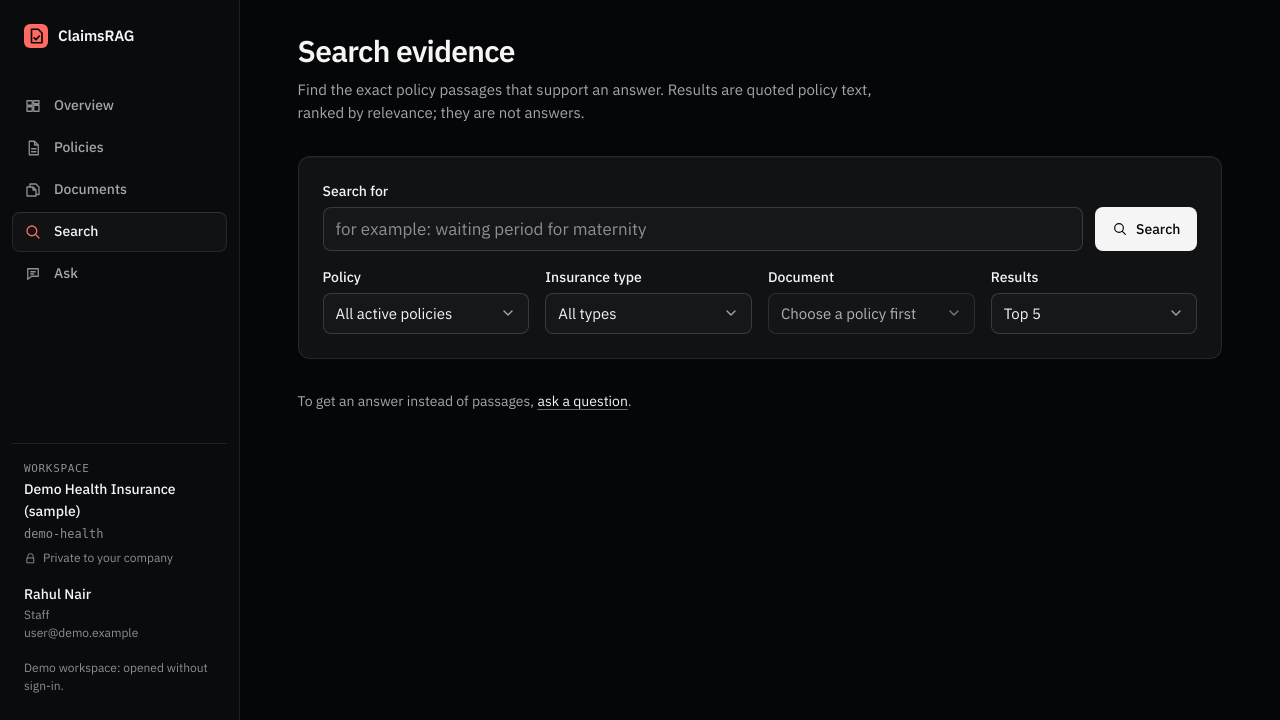
it: evidence search › lists retrieved passages with their provenance, labelled as passages rather than answers
The width and height of the screenshot is (1280, 720).
Type "maternity waiting period" into the search field labelled "Search for". click: (703, 229)
box: [323, 207, 1083, 251]
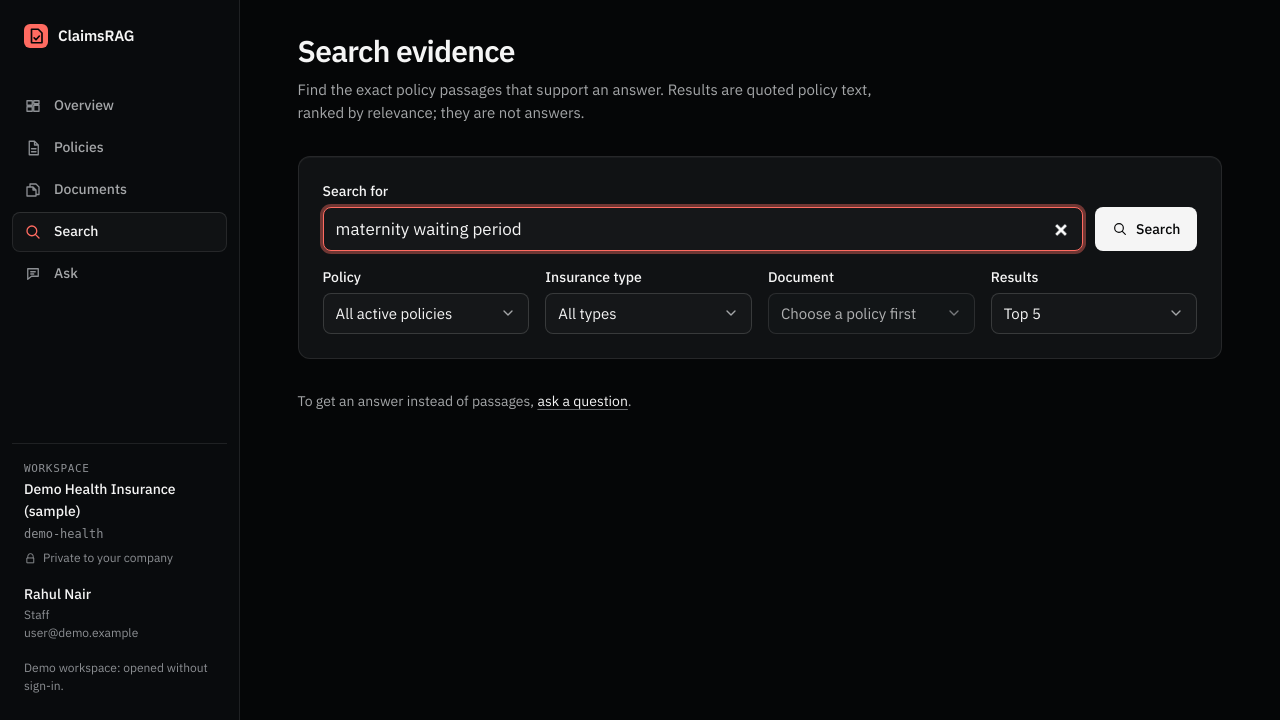
Click the button "Search". click: click(1146, 229)
box: [1095, 207, 1197, 251]
(page scrolled)
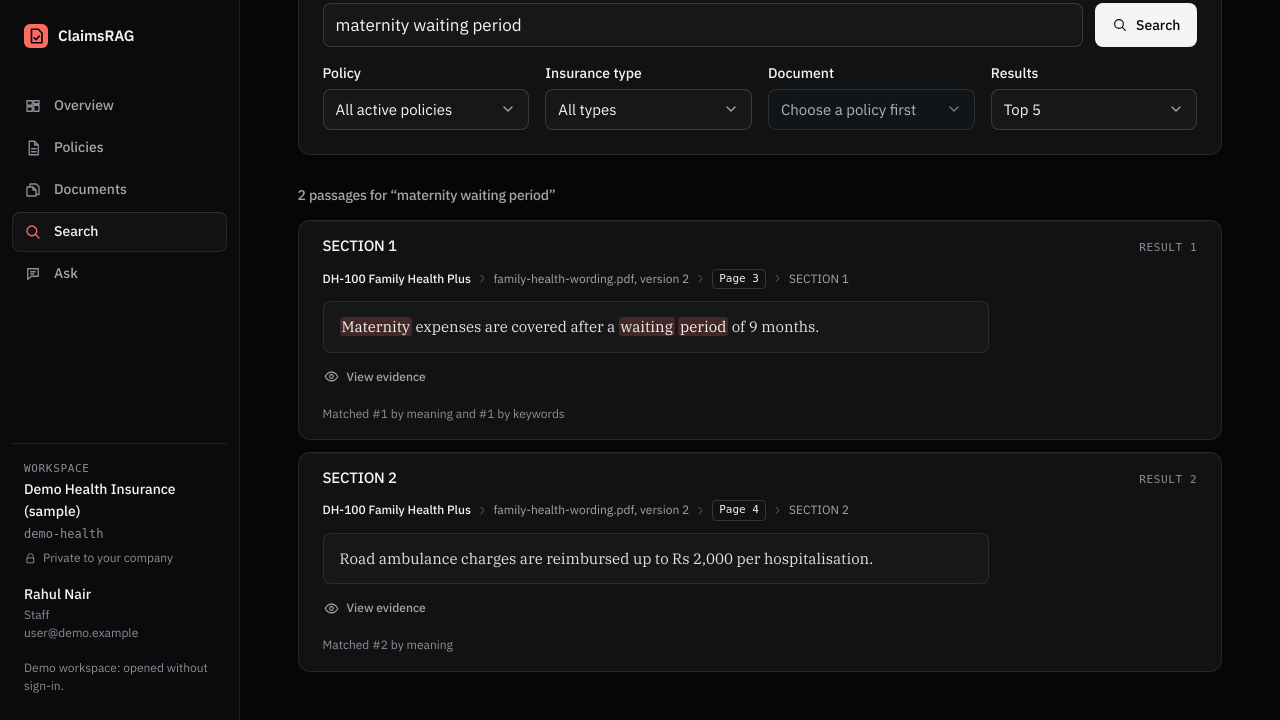
Expected: the heading "2 passages for “maternity waiting period”" is shown, [298, 186, 556, 204]
Expected: the text "Result 1" is shown, [1139, 240, 1197, 256]
Expected: the text "Matched #1 by meaning and #1 by keywords" is shown, [323, 406, 565, 420]
